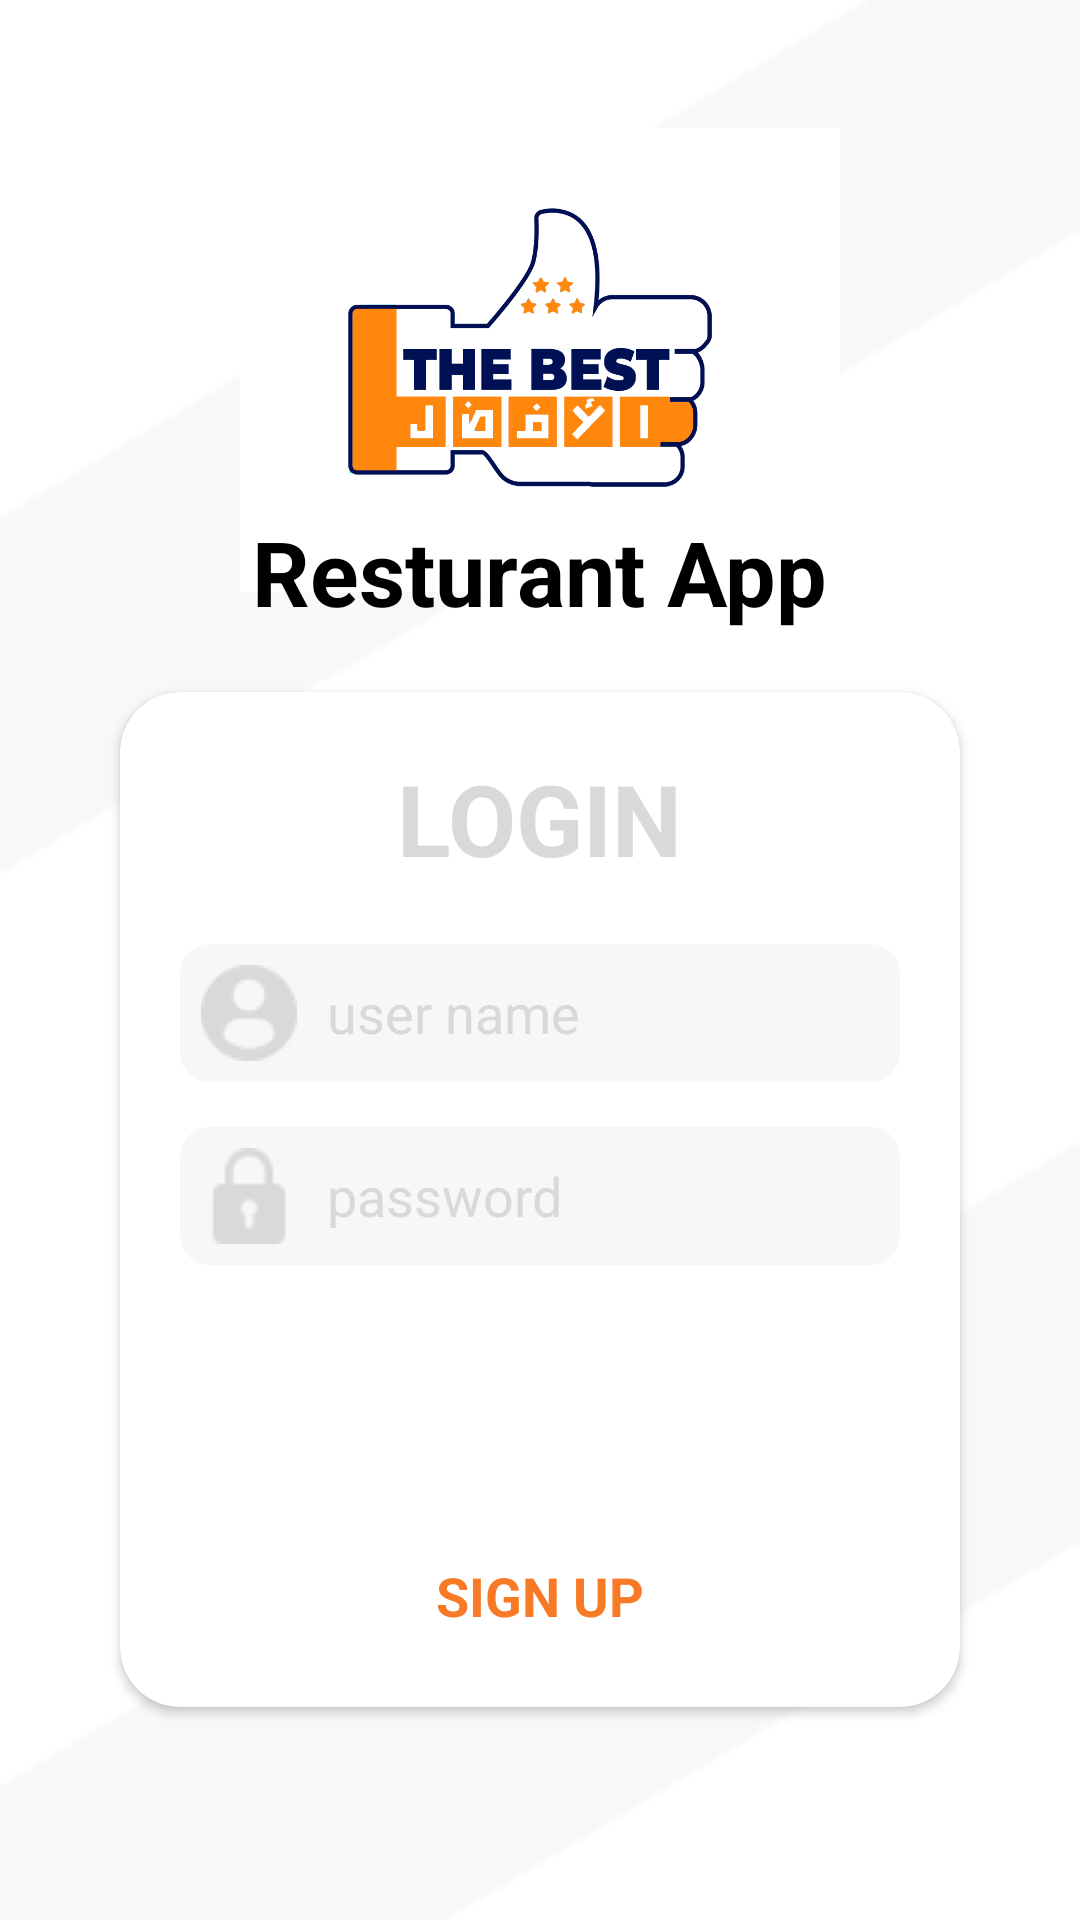

Screen size 1080×1920. Icon name, then its center in pixels as (x=x, y=y):
padlock: (x=249, y=1196)
profileuser: (x=249, y=1013)
